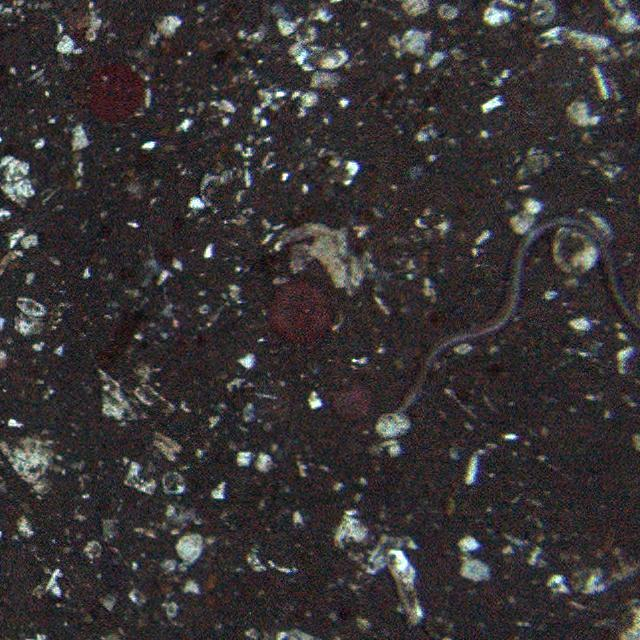eel: (389, 218, 640, 425)
